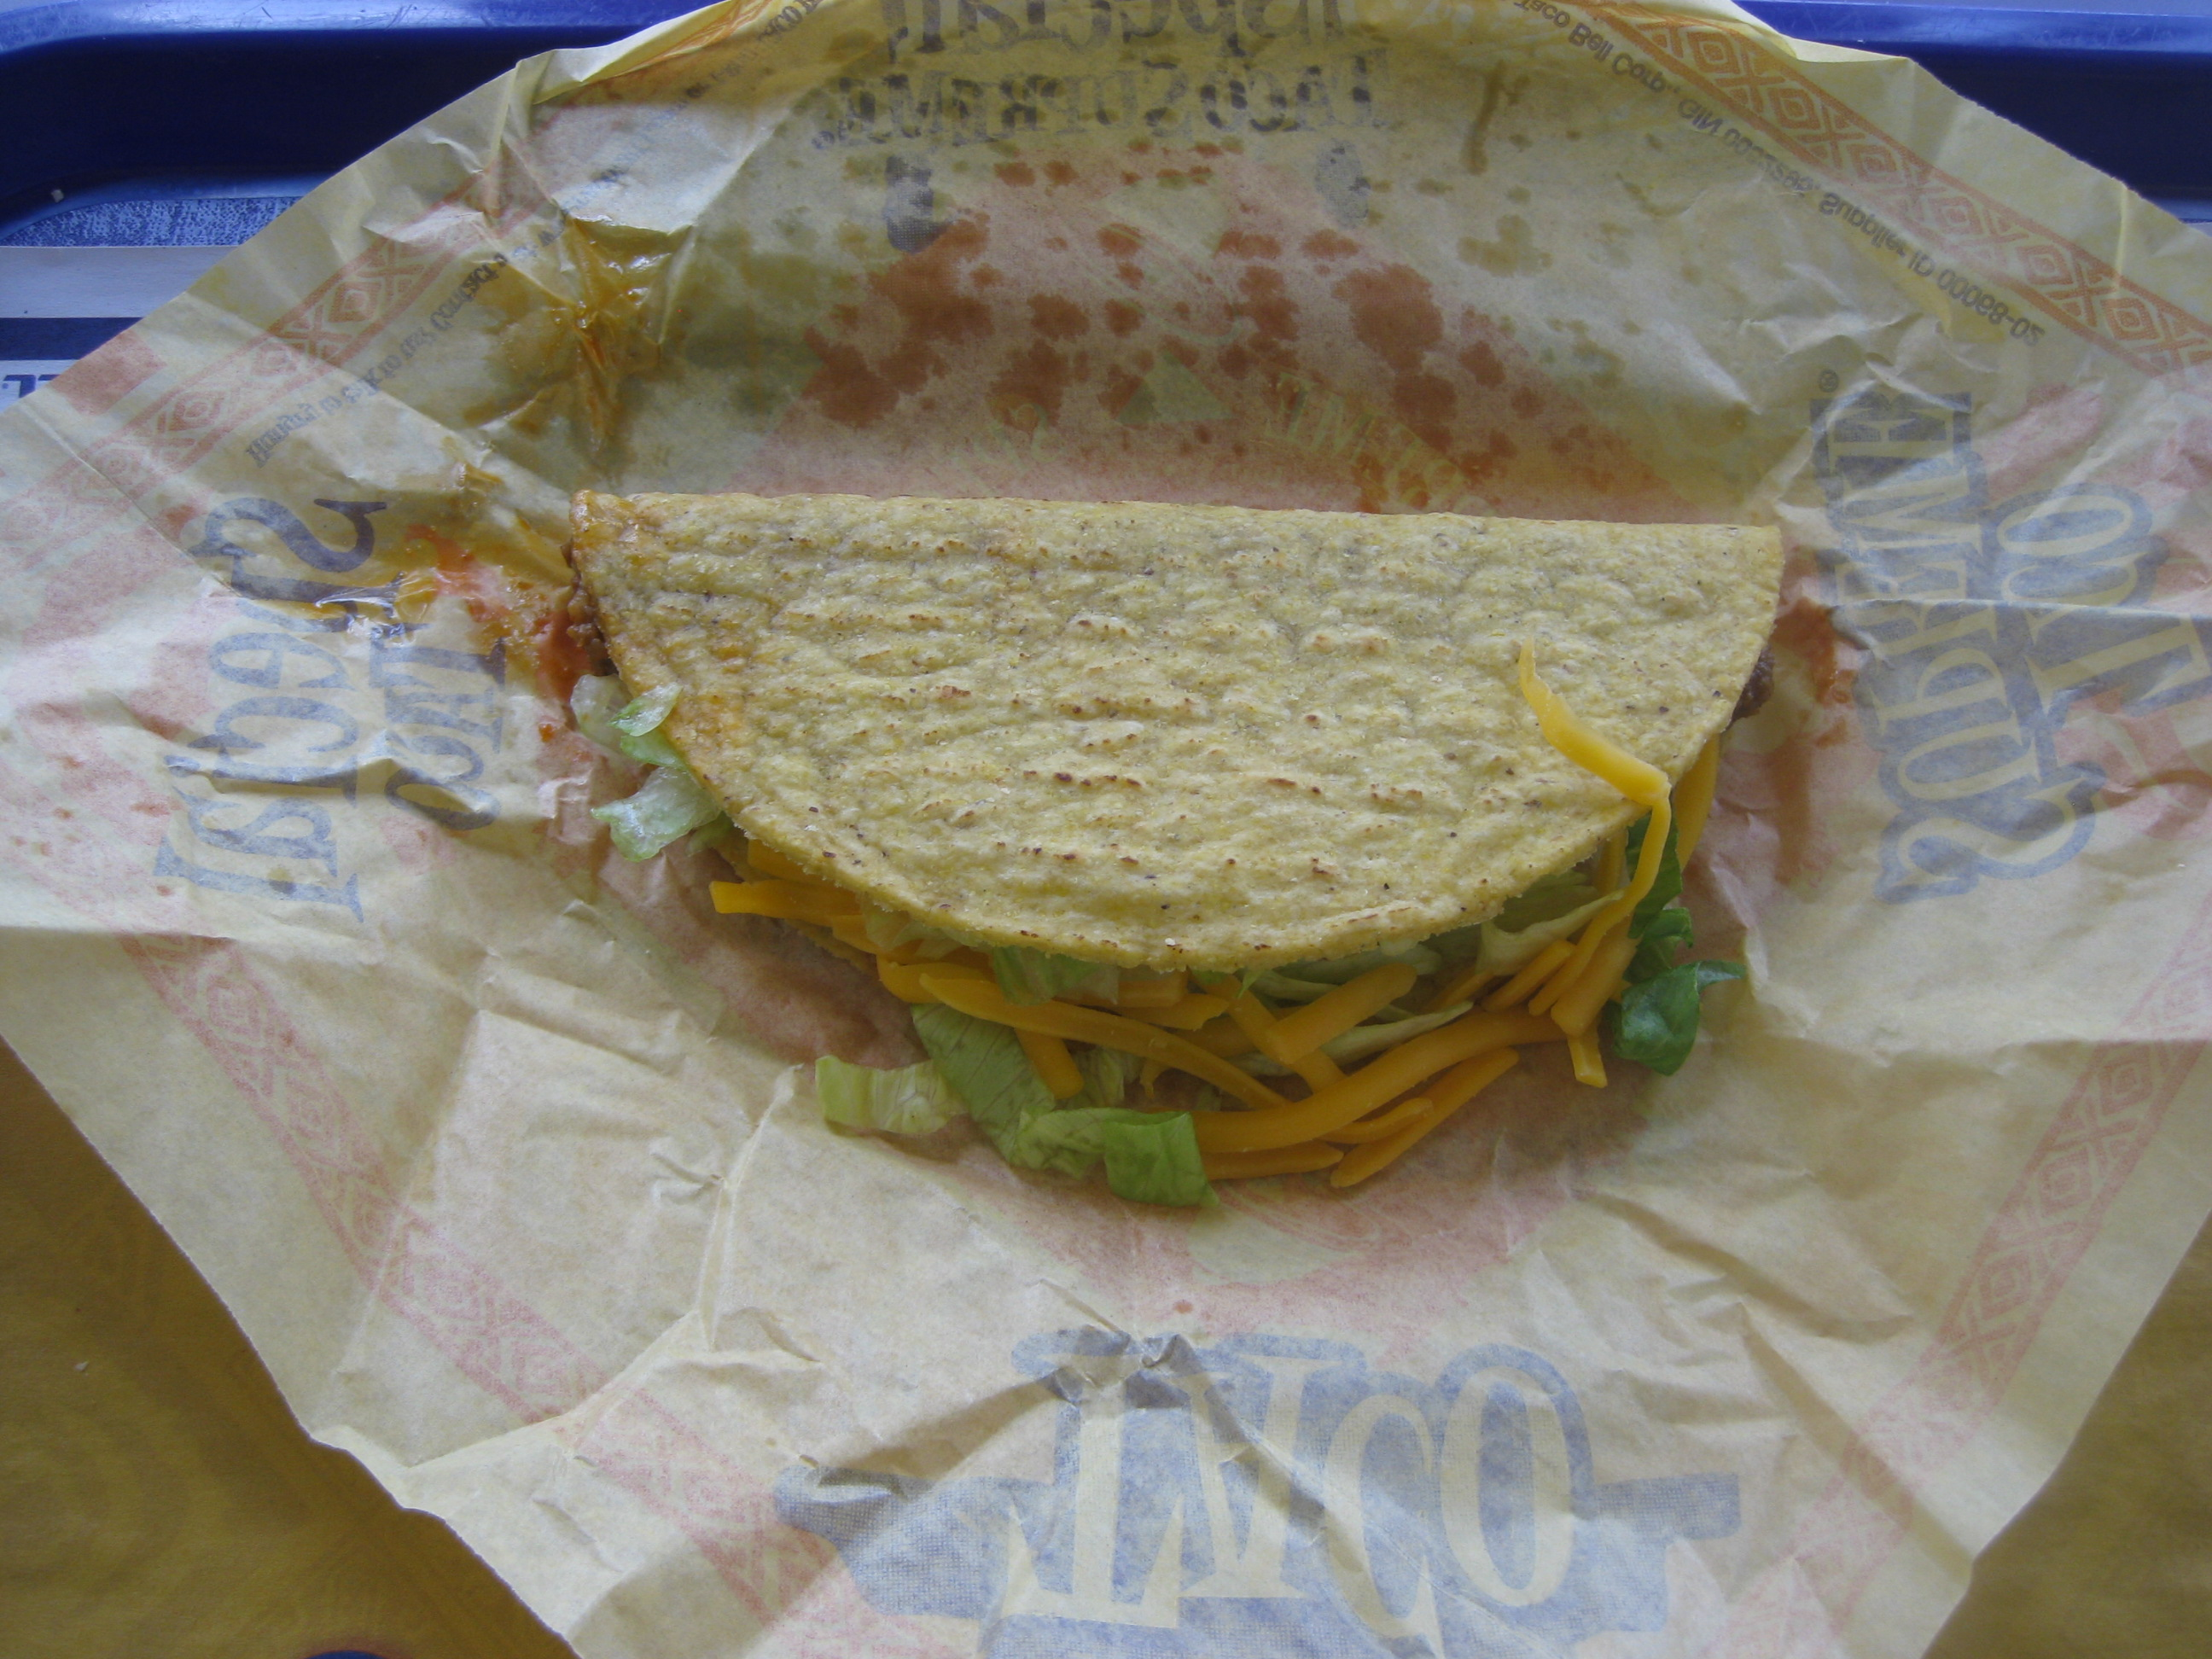taco: (490, 422, 1930, 1254)
